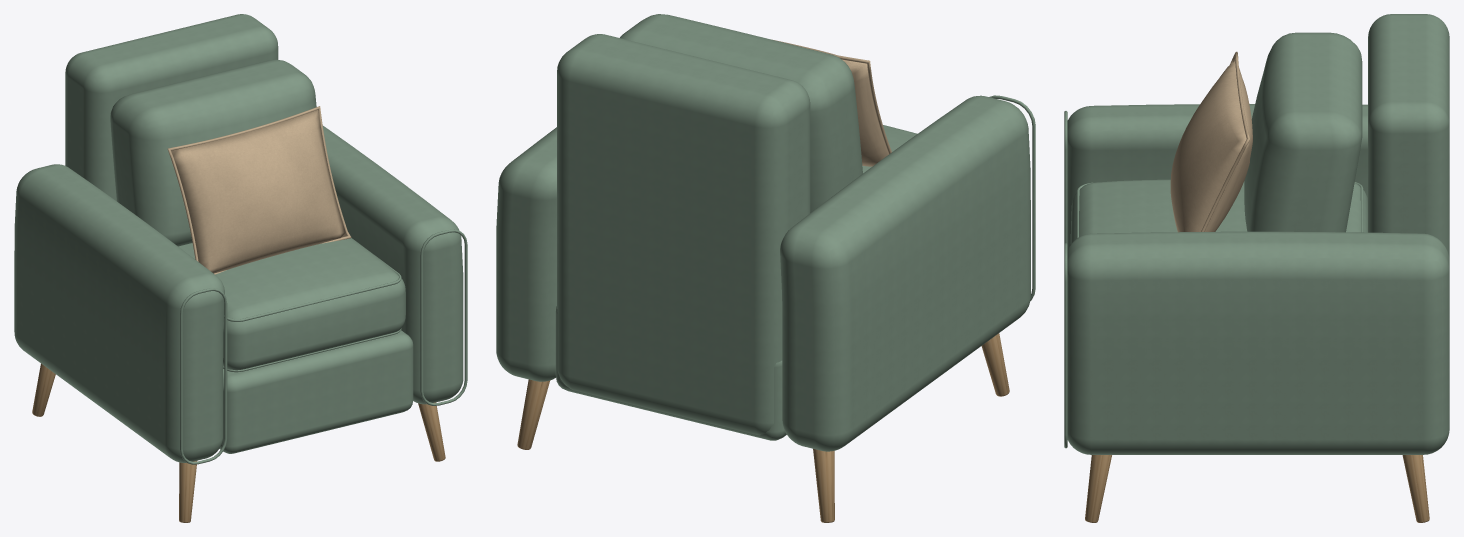
3 renders of one model, left to right at view 1: azimuth 30°, elevation 25°; view 2: azimuth 150°, elevation 25°; view 3: azimuth 270°, elevation 25°, orthographic. The views are drawn at different scales.
Visible parts, largest first — view 1: arm_-1, scatter_cushion, seat_cushion_0, back_cushion_0, arm_1, plinth, back_frame, arm_welt_1, arm_welt_-1, scatter_cushion_piping, leg_-1_1, leg_1_1 (+2 smaller); view 2: back_frame, arm_-1, arm_1, back_cushion_0, scatter_cushion, plinth, leg_-1_-1, leg_1_-1, leg_-1_1, arm_welt_-1; view 3: arm_1, back_cushion_0, back_frame, arm_-1, scatter_cushion, seat_cushion_0, leg_1_-1, leg_1_1, arm_welt_1, scatter_cushion_piping, arm_welt_-1.
Part boxes in pixels (bbox=[...]): arm_-1: bbox=[14, 164, 224, 462]; scatter_cushion: bbox=[171, 110, 347, 273]; seat_cushion_0: bbox=[178, 238, 405, 370]; back_cushion_0: bbox=[110, 59, 316, 246]; arm_1: bbox=[322, 125, 463, 404]; plinth: bbox=[219, 330, 413, 453]; back_frame: bbox=[65, 14, 278, 200]; arm_welt_1: bbox=[420, 229, 467, 405]; arm_welt_-1: bbox=[180, 288, 227, 464]; scatter_cushion_piping: bbox=[167, 106, 351, 274]; leg_-1_1: bbox=[179, 461, 197, 522]; leg_1_1: bbox=[418, 402, 445, 461]; back_frame: bbox=[557, 34, 810, 435]; arm_-1: bbox=[780, 95, 1030, 451]; arm_1: bbox=[496, 127, 556, 381]; back_cushion_0: bbox=[620, 14, 862, 212]; scatter_cushion: bbox=[772, 39, 888, 166]; plinth: bbox=[555, 306, 786, 440]; leg_-1_-1: bbox=[813, 449, 834, 522]; leg_1_-1: bbox=[517, 379, 550, 449]; leg_-1_1: bbox=[981, 333, 1009, 396]; arm_welt_-1: bbox=[989, 95, 1035, 300]; arm_1: bbox=[1067, 231, 1449, 454]; back_cushion_0: bbox=[1244, 32, 1362, 232]; back_frame: bbox=[1368, 14, 1449, 259]; arm_-1: bbox=[1067, 104, 1367, 249]; scatter_cushion: bbox=[1170, 58, 1252, 232]; seat_cushion_0: bbox=[1070, 179, 1367, 244]; leg_1_-1: bbox=[1402, 455, 1429, 522]; leg_1_1: bbox=[1085, 455, 1111, 522]; arm_welt_1: bbox=[1064, 243, 1067, 448]; scatter_cushion_piping: bbox=[1201, 51, 1249, 231]; arm_welt_-1: bbox=[1064, 111, 1067, 243].
Size of the model in its own units: 0.8 by 0.9 by 0.8.
Materials: 3 (3 with a texture image).
